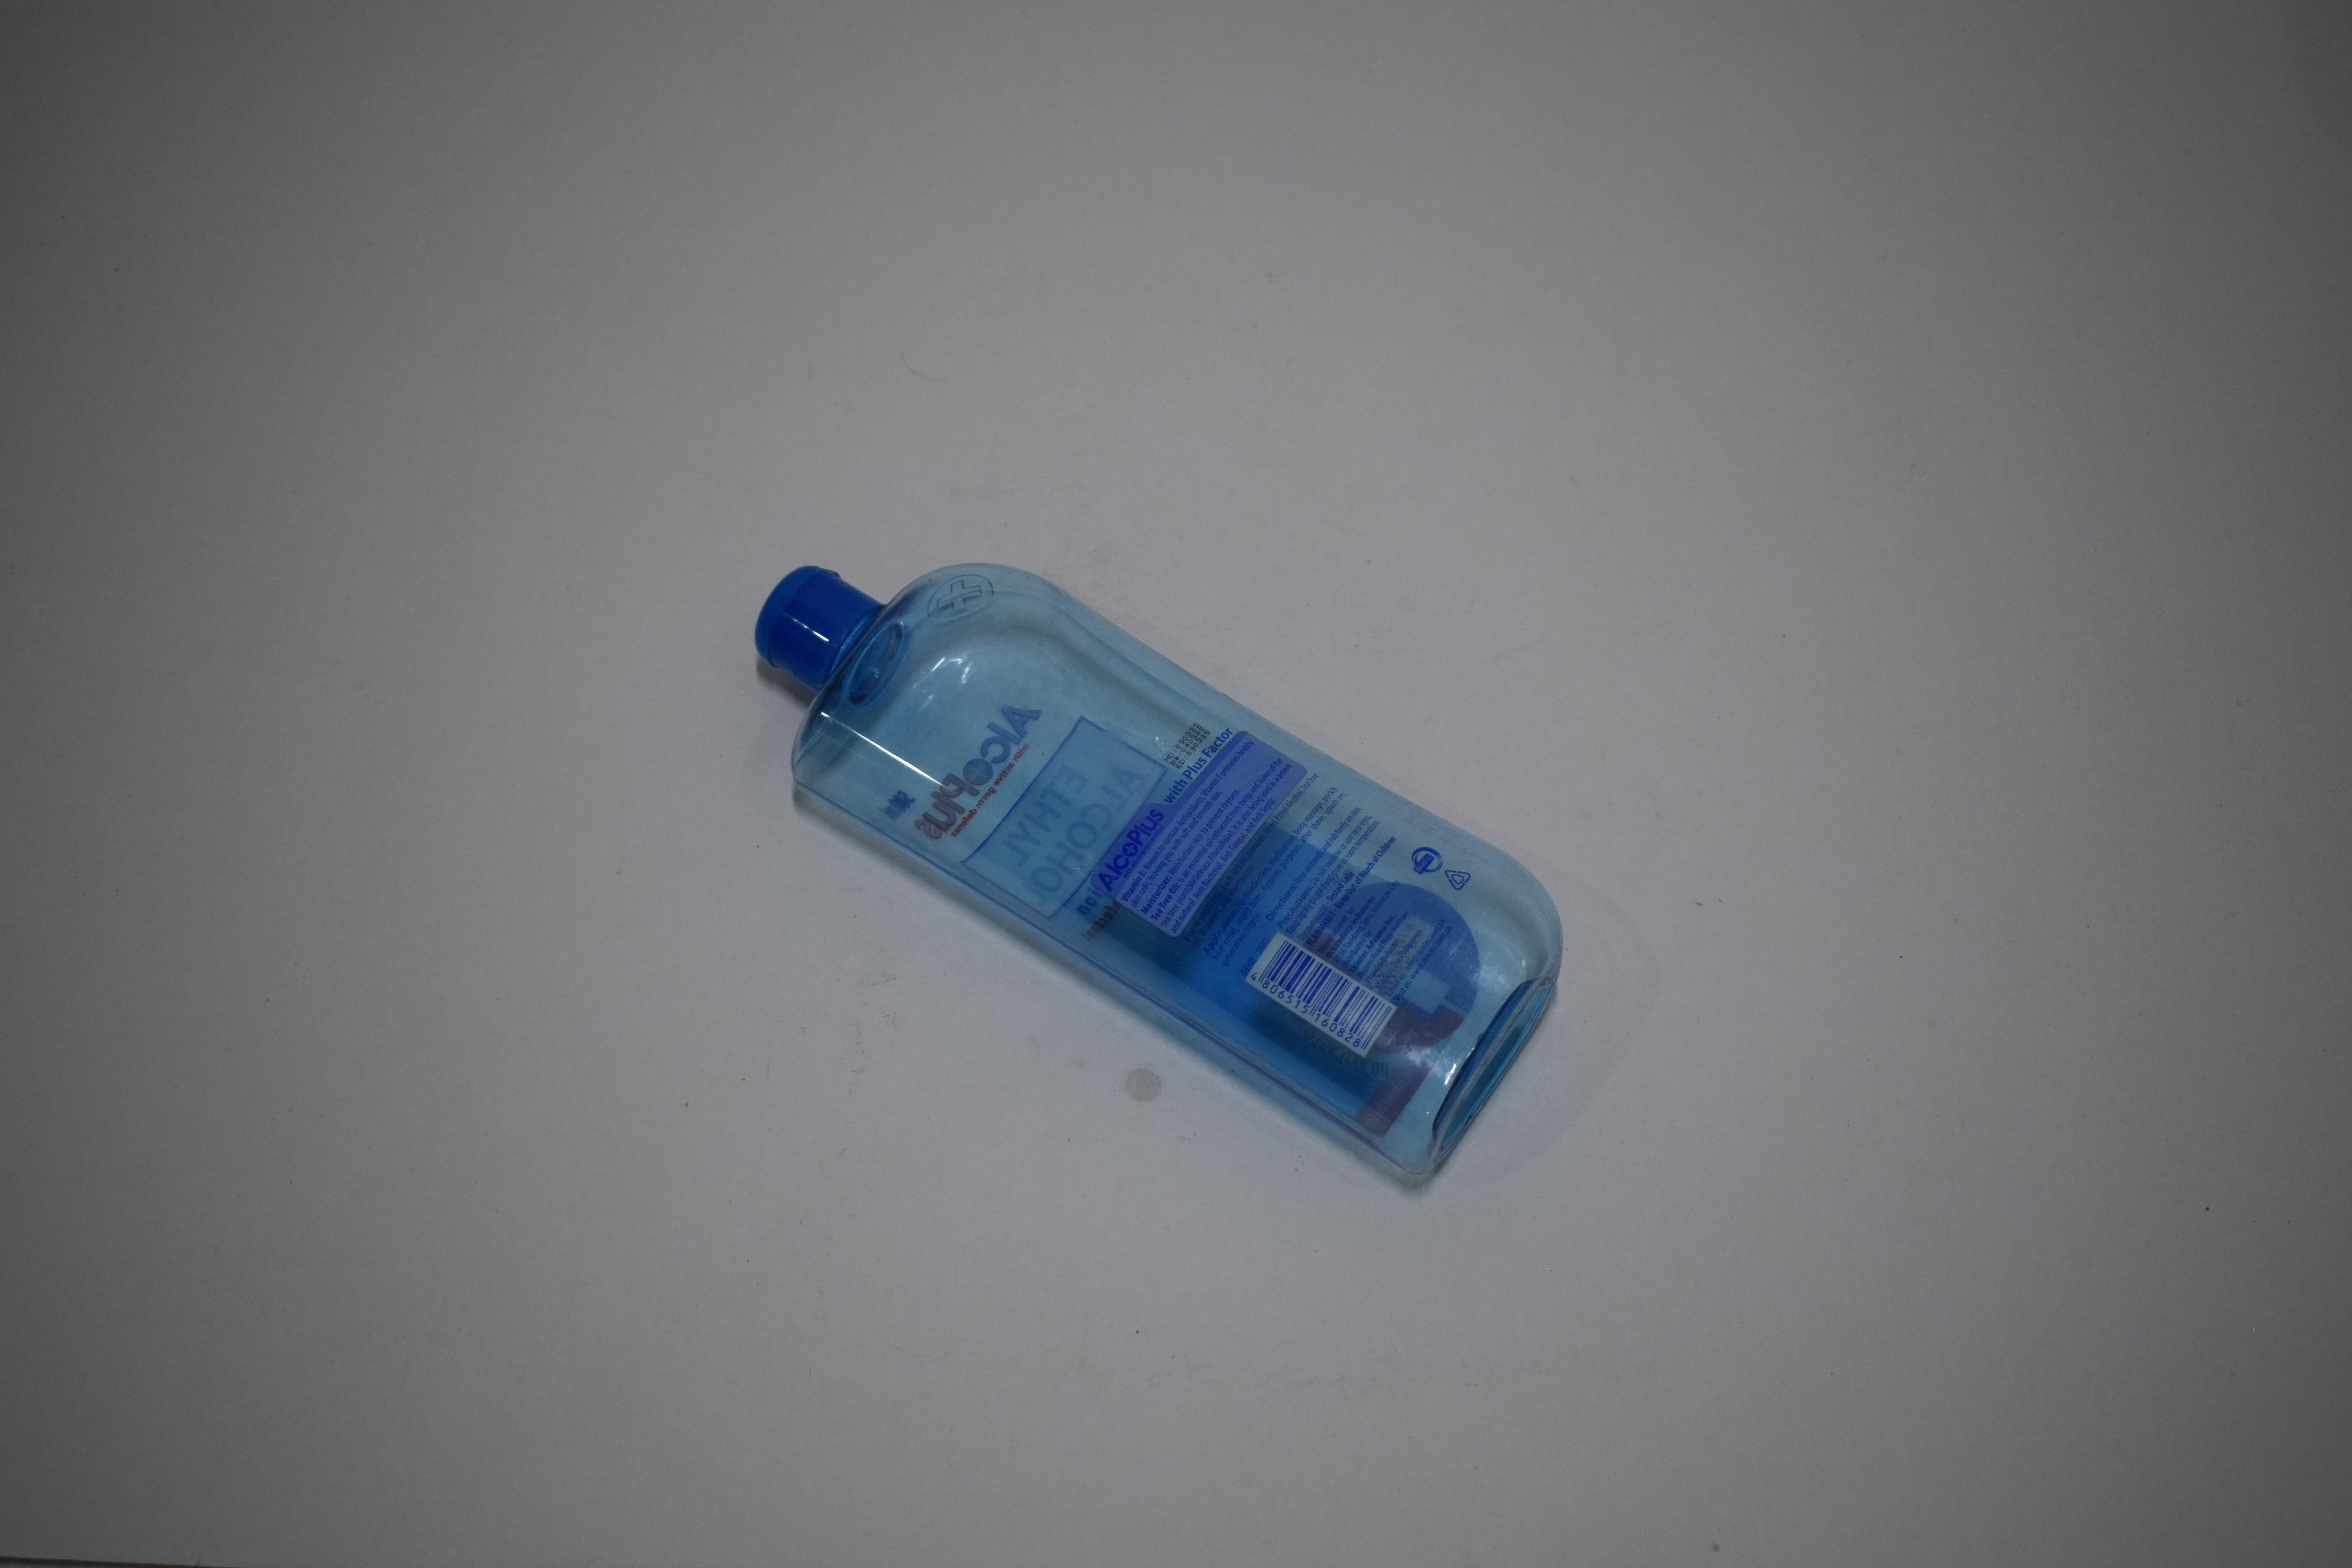bottle: (803, 0, 1508, 336)
